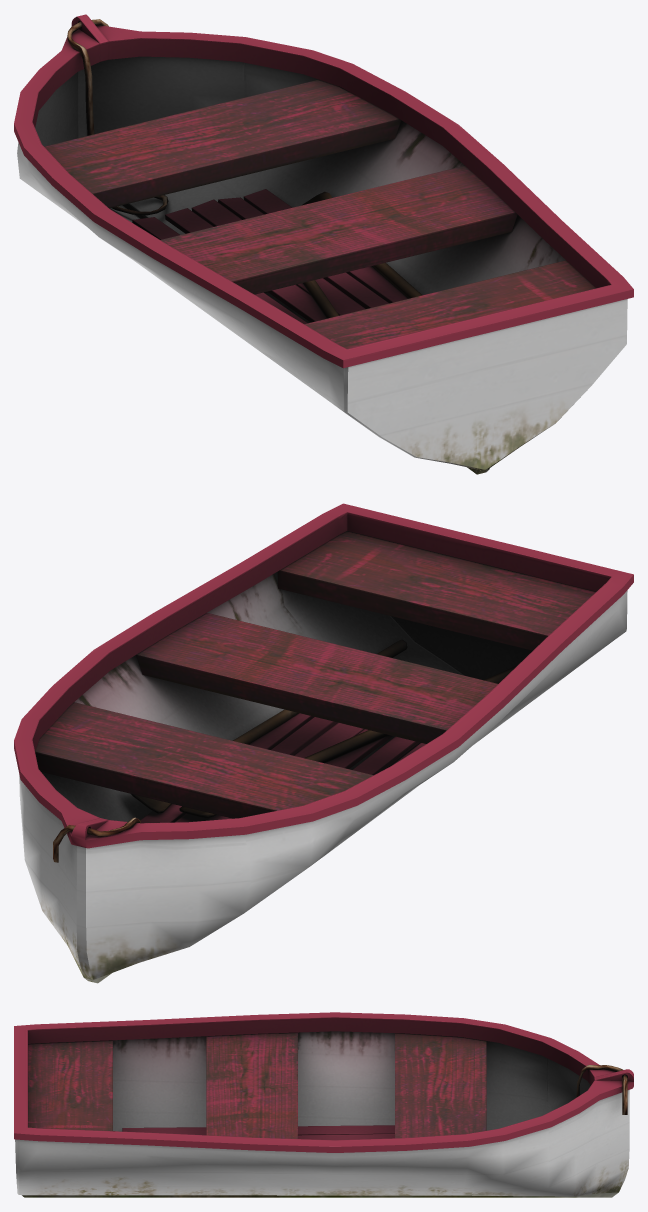
Rendered from fishing_boat.glb.
The picture shows the model from 3 angles, top to bottom: view 1: azimuth 30°, elevation 25°; view 2: azimuth 150°, elevation 25°; view 3: azimuth 270°, elevation 25°; orthographic projection. The views are drawn at different scales.
Visible parts, largest first — view 1: Box003; view 2: Box003; view 3: Box003.
Part boxes in pixels (box(x1,y1,x2,y2)): Box003: box(14, 14, 633, 474); Box003: box(14, 503, 633, 983); Box003: box(14, 1012, 633, 1197).
Size of the model in its own units: 239 by 103 by 466.
1 material, 1 textured.
